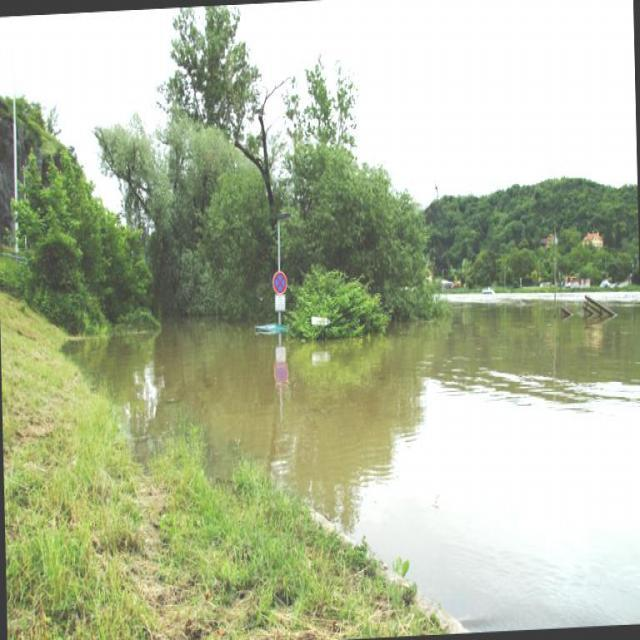flood: (66, 299, 639, 639)
